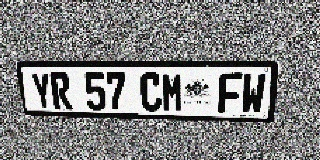5: (84, 73, 107, 111)
7: (105, 73, 127, 111)
C: (140, 73, 162, 112)
F: (218, 73, 242, 113)
M: (162, 73, 183, 112)
R: (49, 73, 73, 110)
W: (240, 73, 266, 114)
Y: (30, 72, 54, 109)
